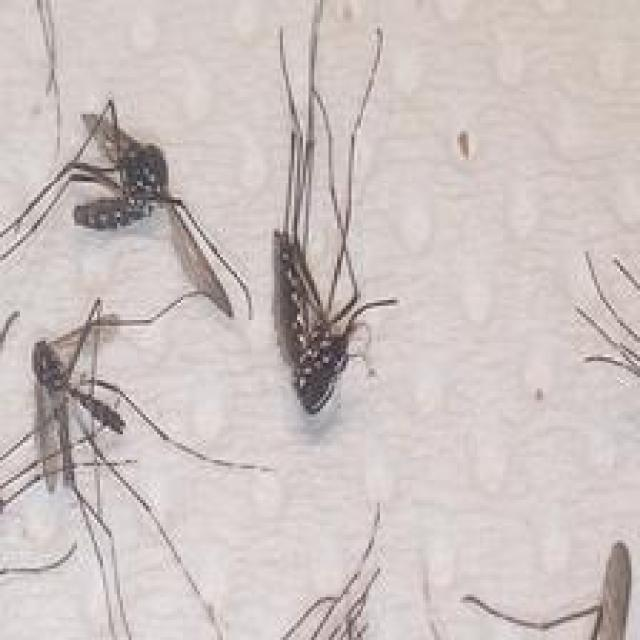Aedes albopictus: (270, 0, 398, 414)
